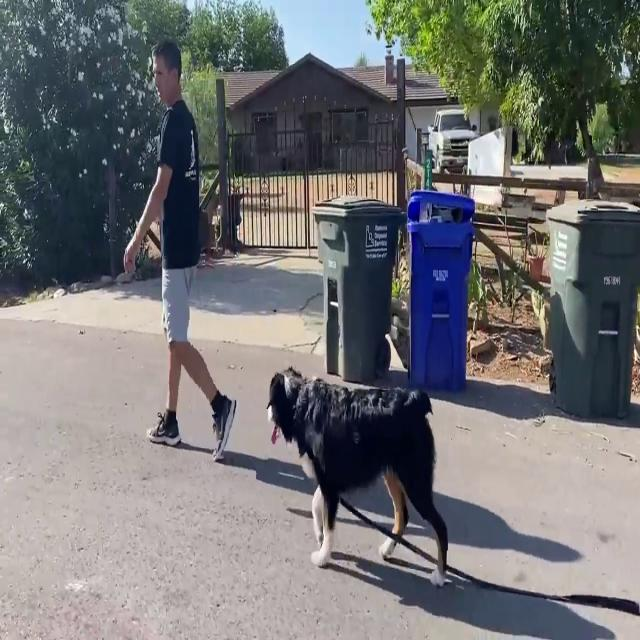Unleashed_Dog: (164, 266, 450, 589)
